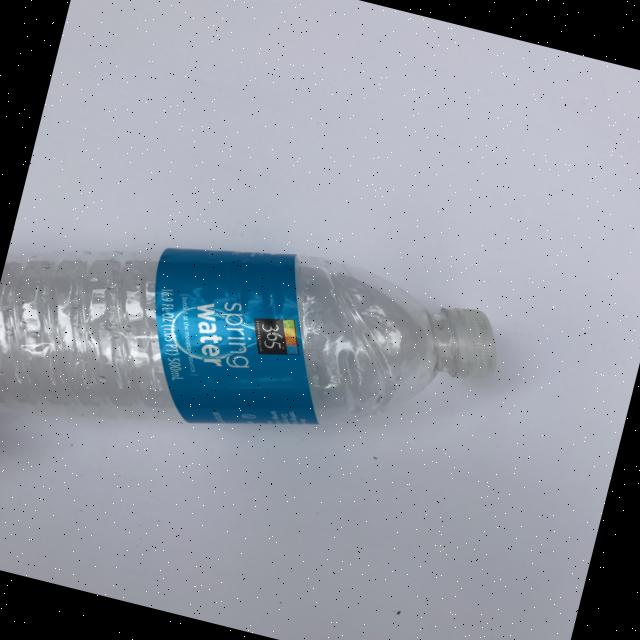plastic: (0, 181, 511, 529)
